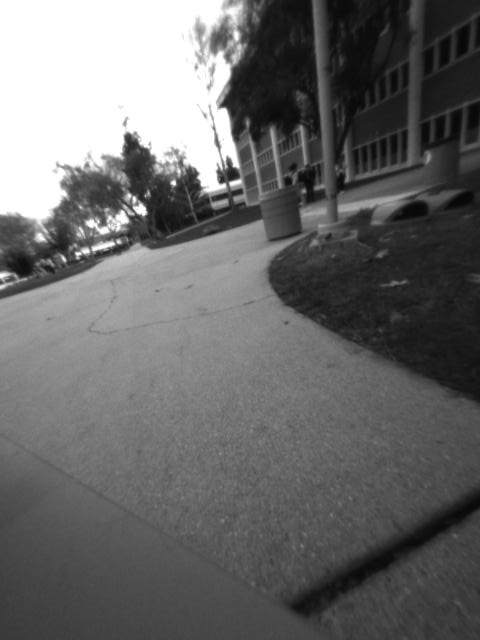trashcan: (256, 182, 305, 240), (418, 135, 462, 191)
